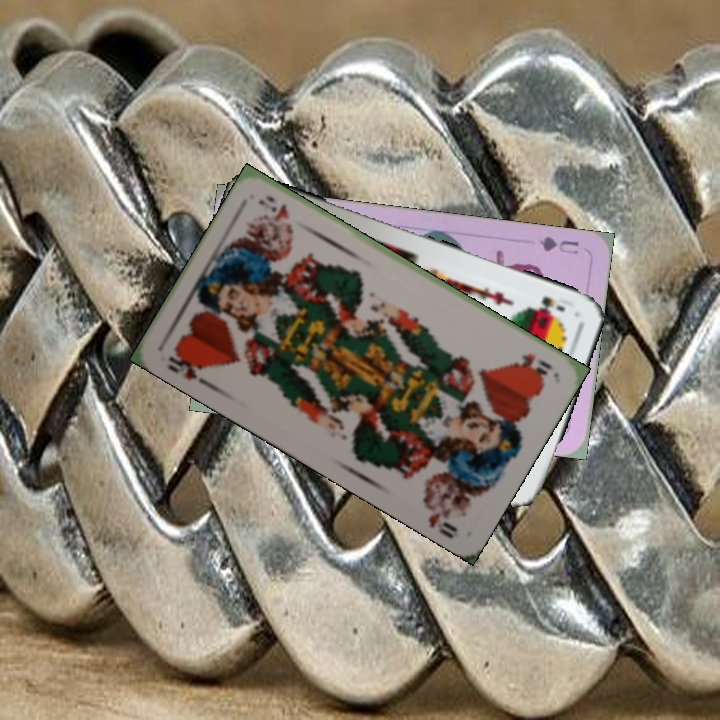GU: (534, 232, 582, 257)
HO: (163, 345, 208, 383), (510, 349, 554, 381)
SK: (535, 292, 568, 315)
